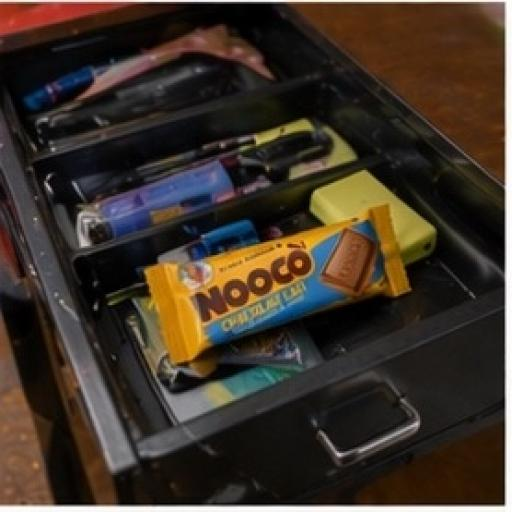biscuit-detection: (136, 204, 451, 382)
